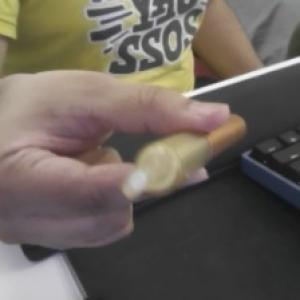Golden-E-Ciggirate: (120, 109, 248, 207)
